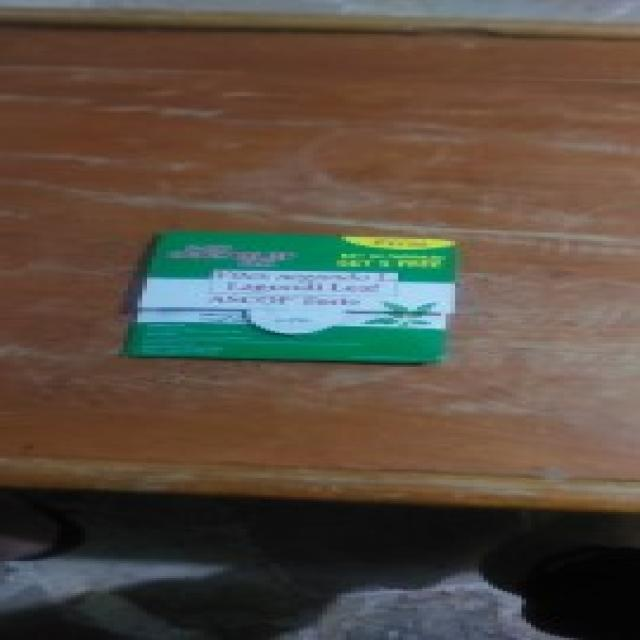Cacat: (116, 234, 453, 361)
